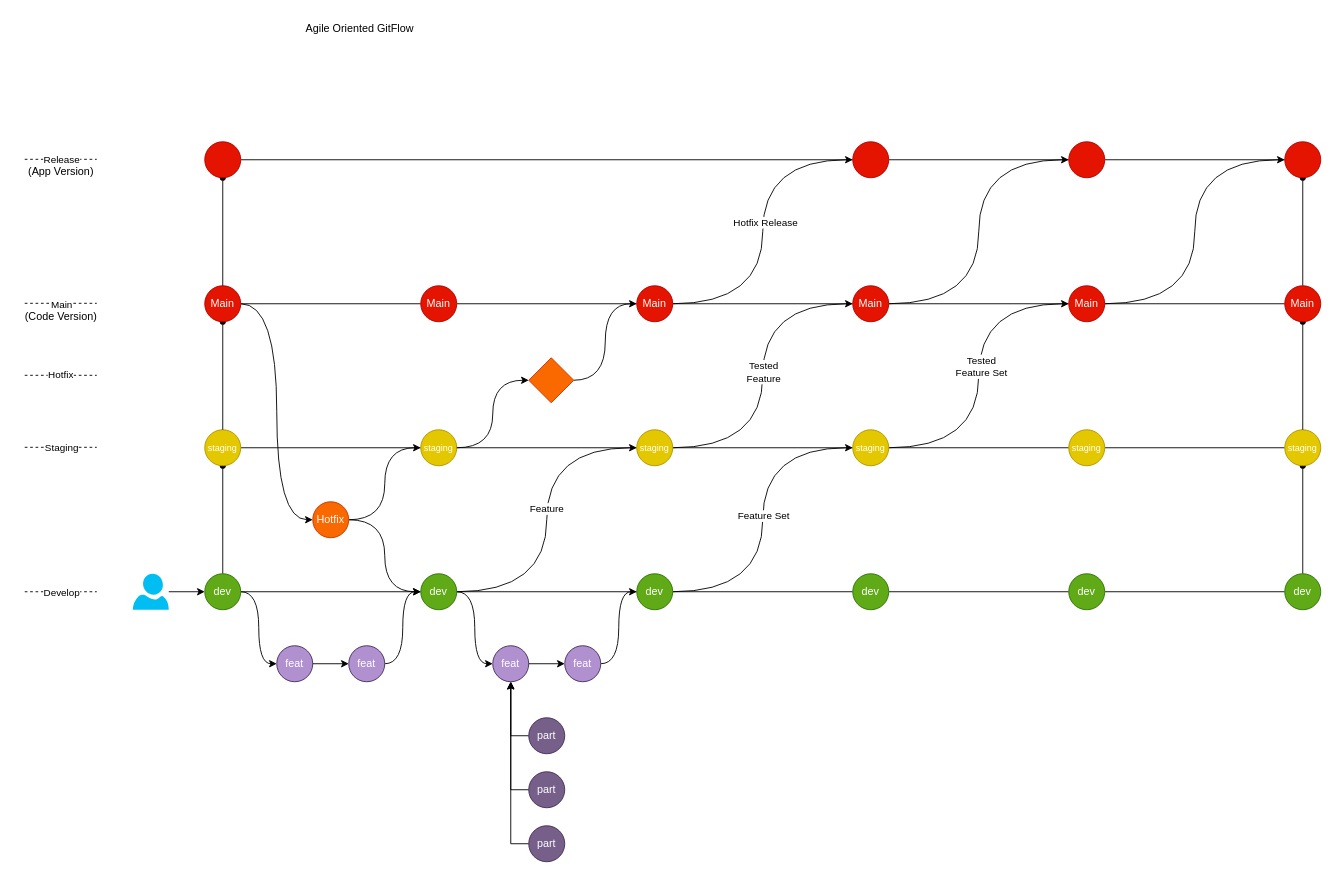
Some shapes in this 1337 by 878 pixel diagram are drawn without their labels. The centre of each missing label's shape, as x and y in pixels:
Critical: [551,380]
v1.0.0: [222,159]
v1.0.1: [870,159]
v1.1.1: [1086,159]
v2.0.0: [1302,159]
You: [150,591]
